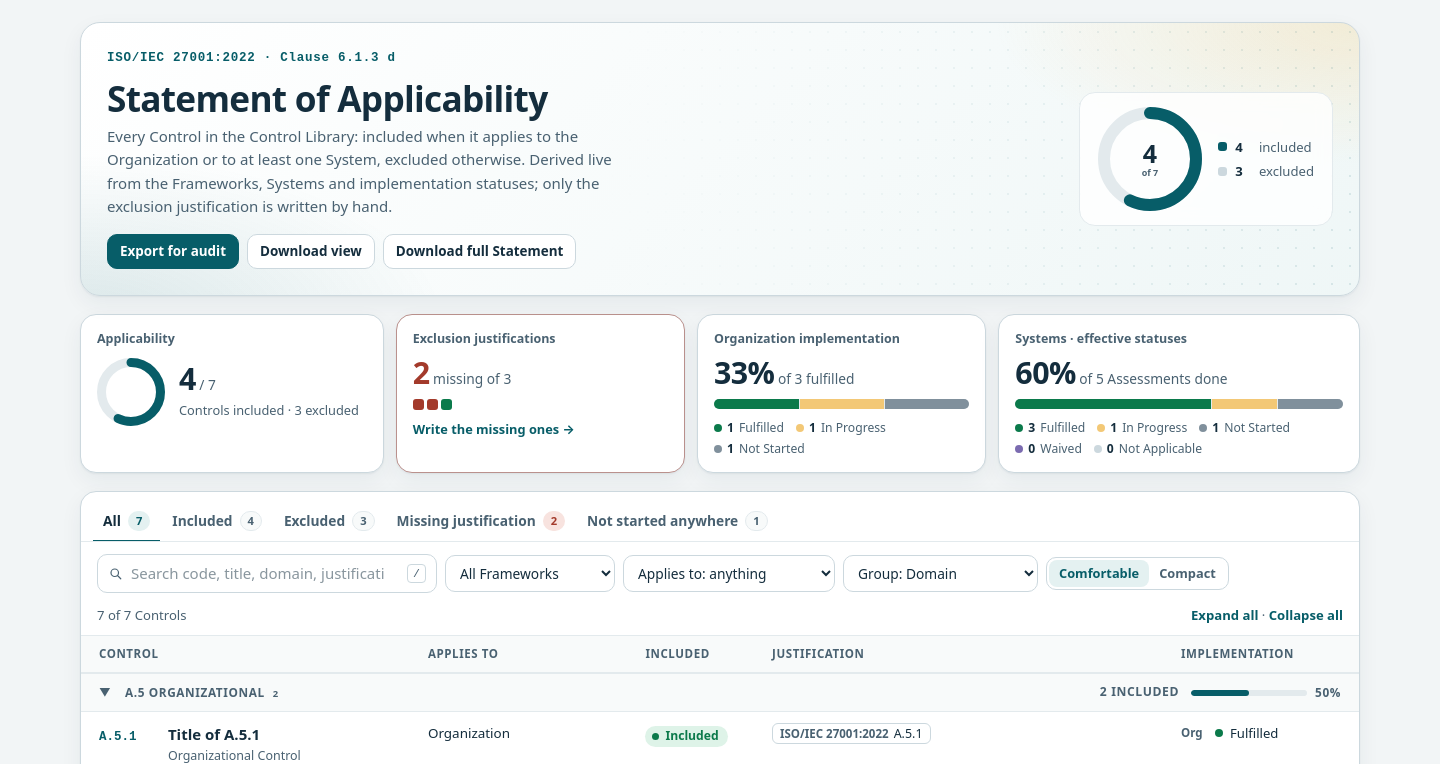
the cards › the Exclusion justifications card shows the missing ones and, for a writer, opens the first
Click the button "Exclusion justifications": point(484, 339) [396,314,685,474]
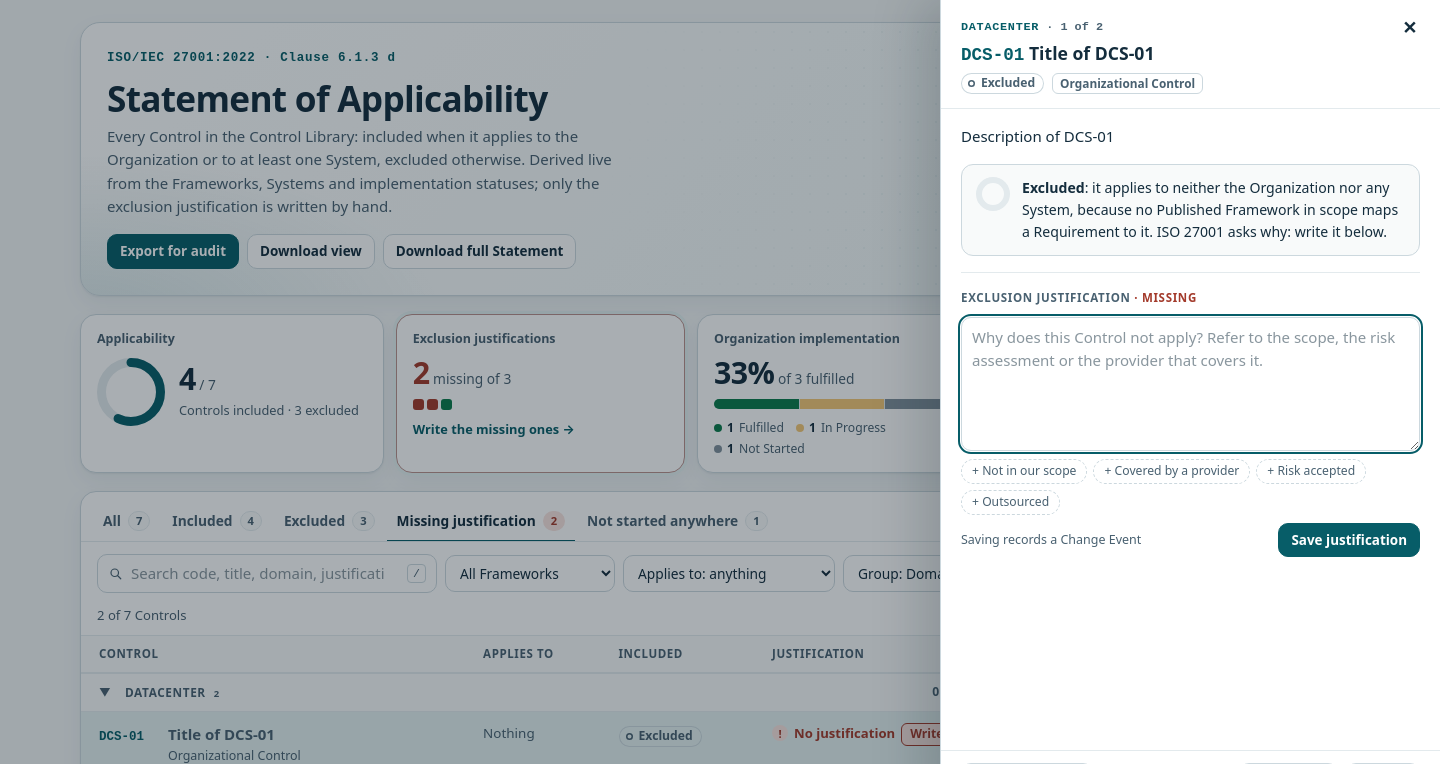
Expected: the heading "DCS-01 Title of DCS-01" is shown, [961,41,1154,65]
Expected: the text box named "Exclusion justification of DCS-01" is shown, [961,317,1420,451]
